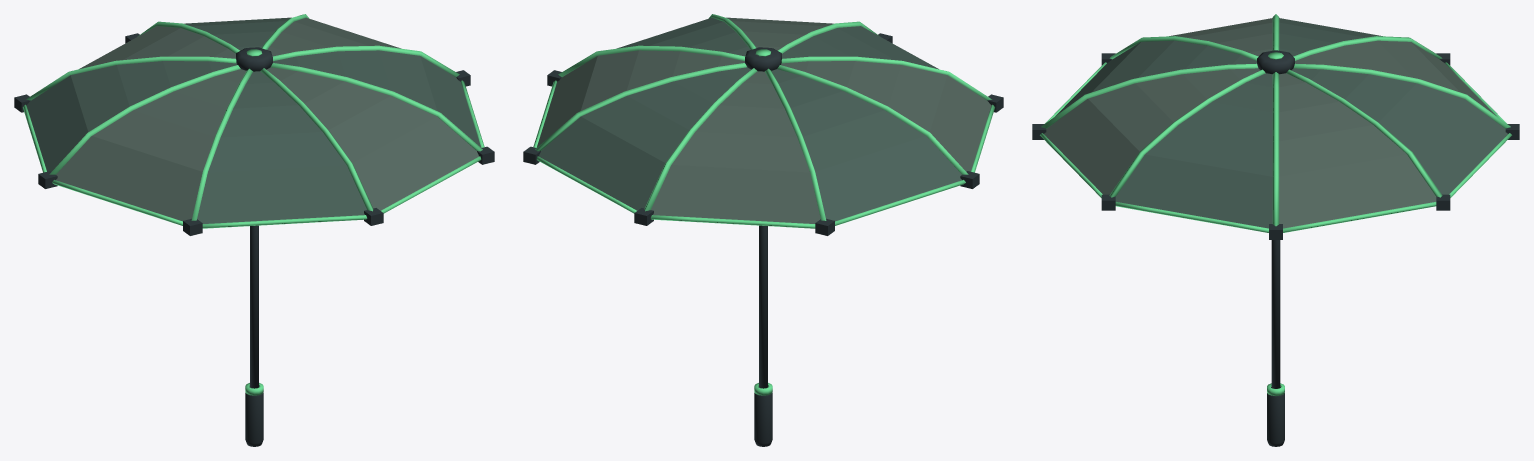
File: umbrella-mainframe.glb
3 views of the same model, side by side, from view 1: azimuth 30°, elevation 25°; view 2: azimuth 150°, elevation 25°; view 3: azimuth 270°, elevation 25° (orthographic).
Parts seen in each view (by area): view 1: spin, umbrella_root; view 2: spin, umbrella_root; view 3: spin, umbrella_root.
Boxes of the visible parts, x1,y1,x2,y2 form: spin: (14, 14, 494, 235); umbrella_root: (245, 225, 263, 446); spin: (523, 14, 1003, 235); umbrella_root: (754, 225, 772, 446); spin: (1032, 14, 1519, 239); umbrella_root: (1267, 240, 1284, 446).
Size of the model in its own units: 1.54 by 1.36 by 1.54.
